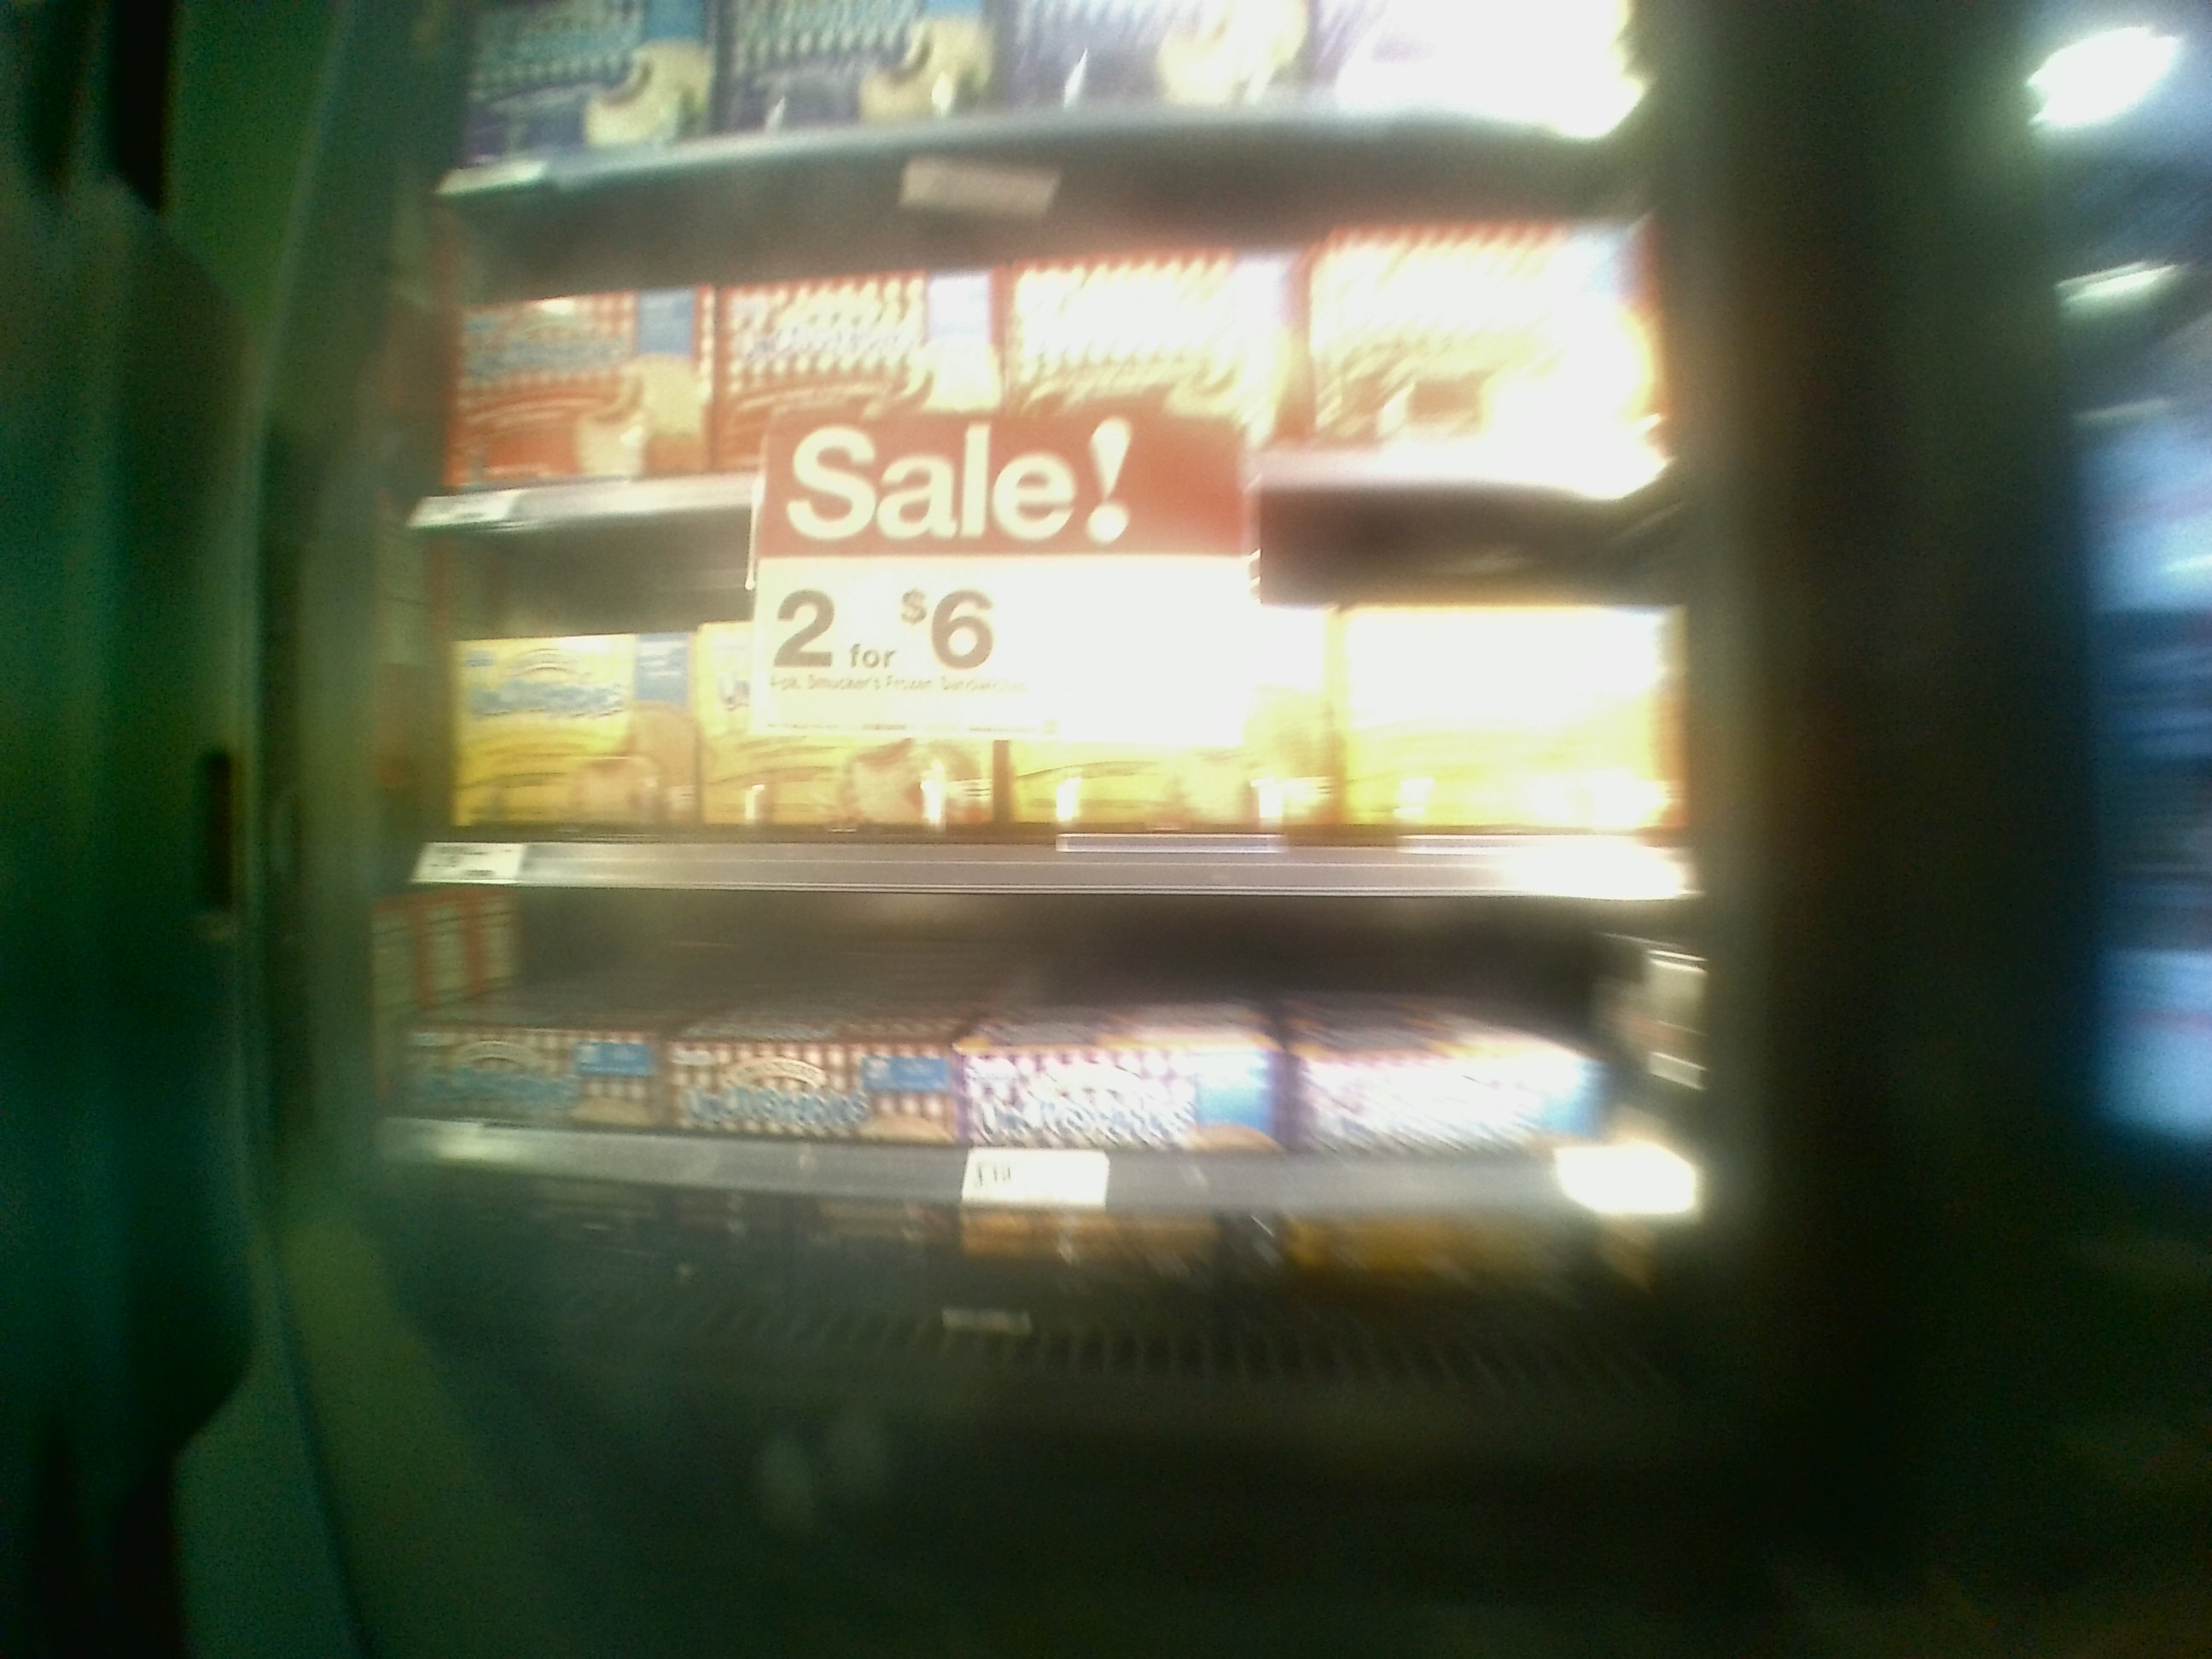shelf: (380, 488, 1695, 890), (380, 840, 1688, 1216), (402, 190, 1658, 514)
